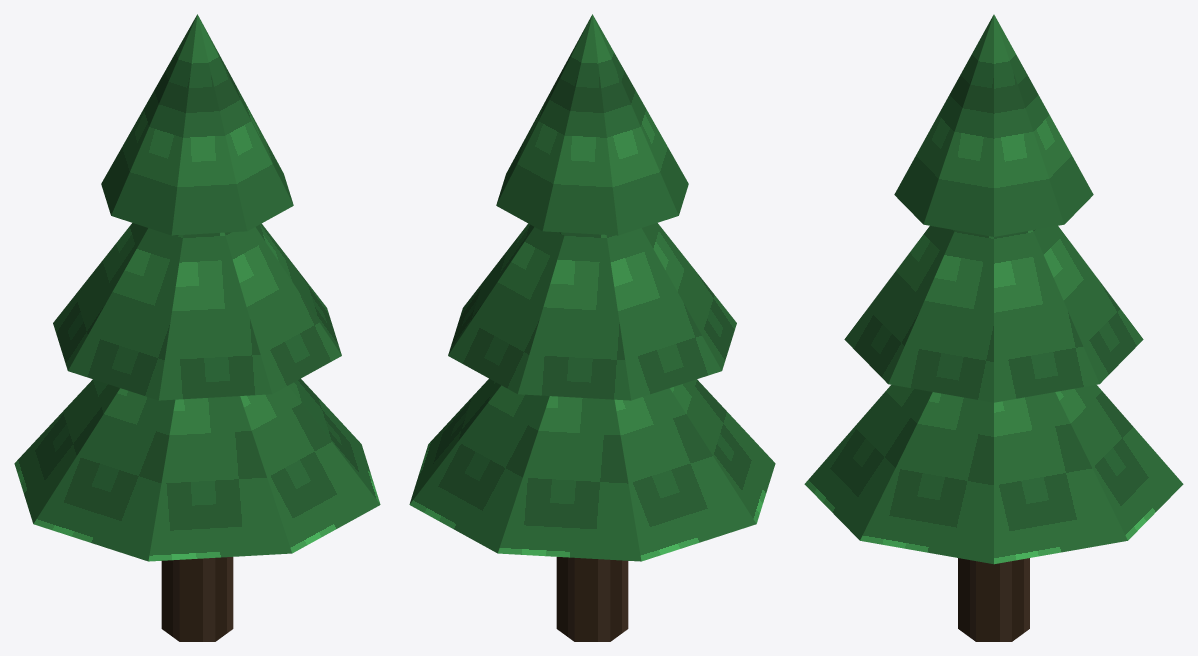
The model's file is tree_pine.glb.
3 views of the same model, side by side, from view 1: azimuth 30°, elevation 25°; view 2: azimuth 150°, elevation 25°; view 3: azimuth 270°, elevation 25° (orthographic).
Parts seen in each view (by area): view 1: tree_pine; view 2: tree_pine; view 3: tree_pine.
Part boxes in pixels (<box>): tree_pine: <box>14,14,380,641</box>; tree_pine: <box>409,14,775,641</box>; tree_pine: <box>804,14,1183,641</box>.
Size of the model in its own units: 1.9 by 3.4 by 1.9.
2 materials, 2 textured.
